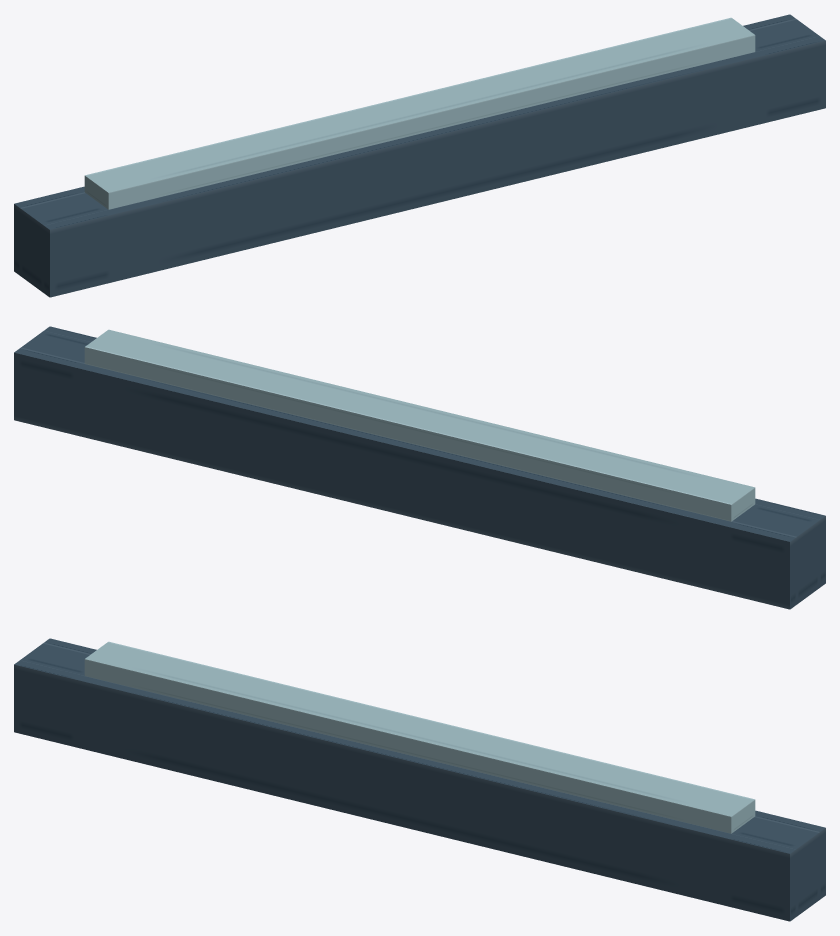
The model's file is sc_slat.obj.
3 views of the same model, one above another, from view 1: azimuth 30°, elevation 25°; view 2: azimuth 150°, elevation 25°; view 3: azimuth 330°, elevation 25° (orthographic).
Size of the model in its own units: 15 by 1.56 by 1.2.
Materials: 1 (1 with a texture image).
